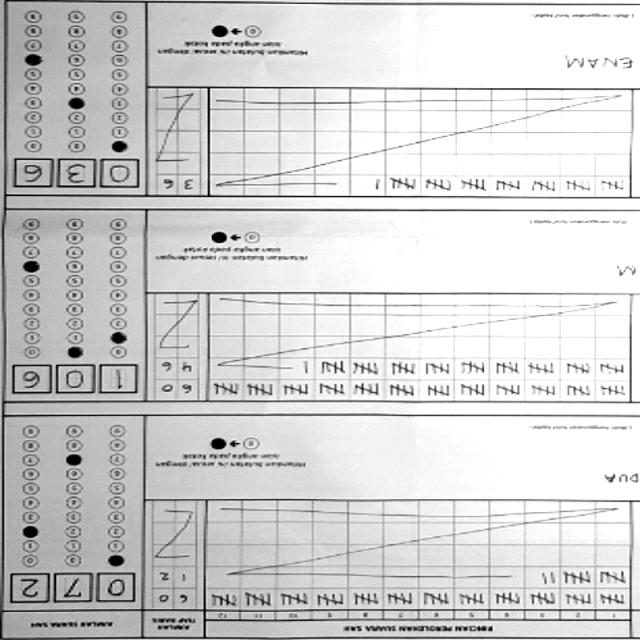Suara: (7, 360, 146, 403), (5, 571, 136, 609), (12, 158, 146, 193)
